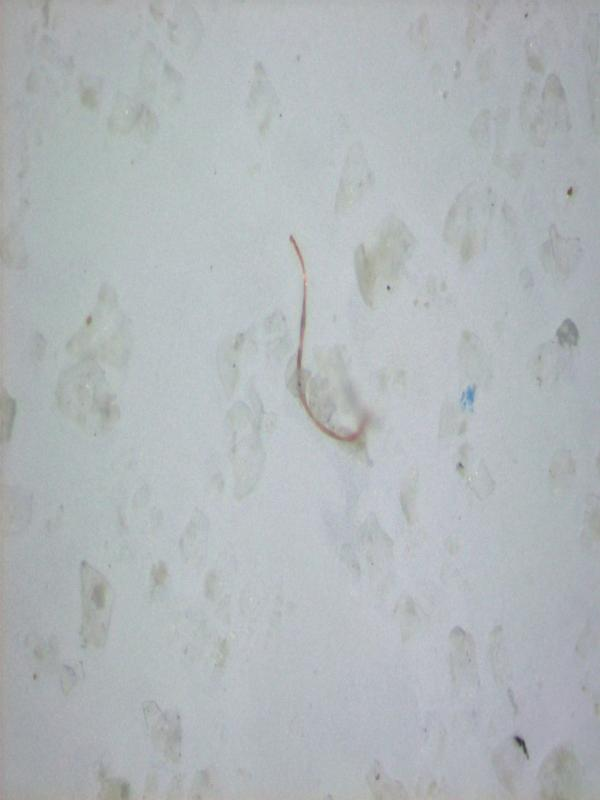microplastic: (2, 1, 598, 797), (284, 230, 372, 450)
